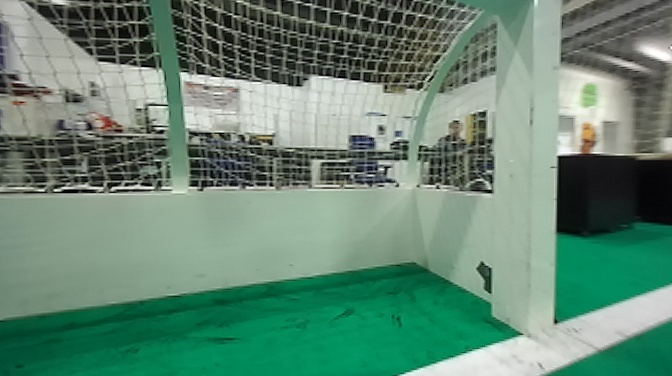goalpost: (501, 3, 561, 343)
